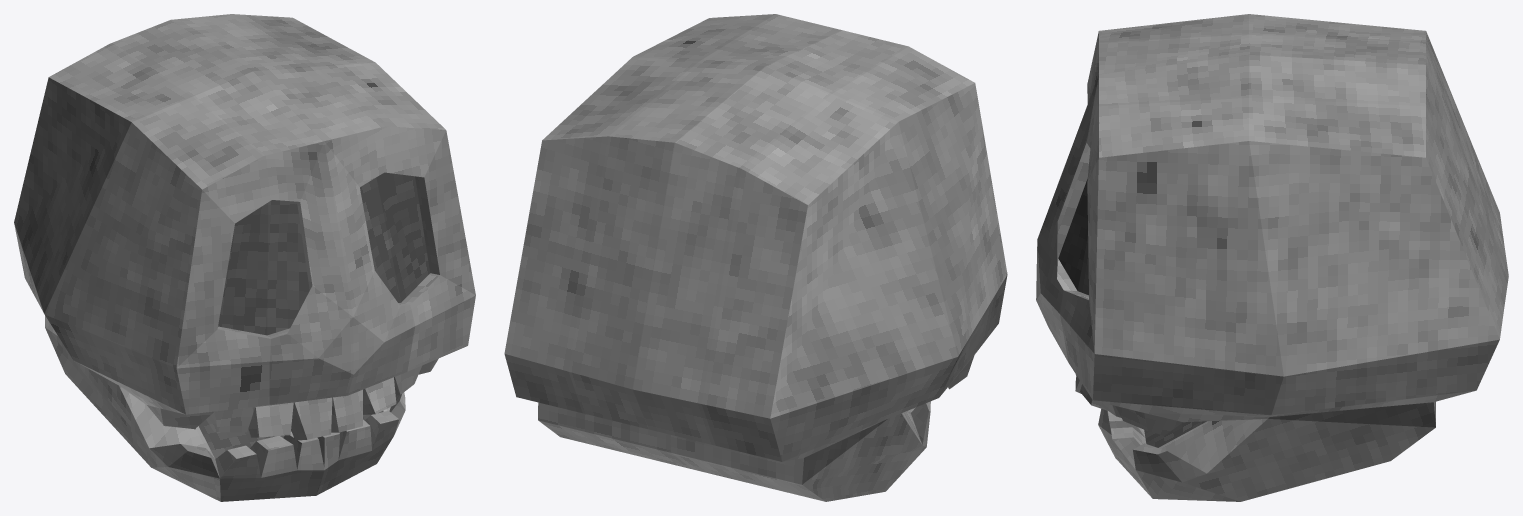
The model's file is Kosta_tn.fbx.
The picture shows the model from 3 angles, left to right: view 1: azimuth 30°, elevation 25°; view 2: azimuth 150°, elevation 25°; view 3: azimuth 270°, elevation 25°; orthographic projection. The views are drawn at different scales.
Parts seen in each view (by area): view 1: Cube.025; view 2: Cube.025; view 3: Cube.025.
Part boxes in pixels (x1,y1,x2,y2): Cube.025: [14, 14, 475, 501]; Cube.025: [504, 14, 1007, 501]; Cube.025: [1036, 14, 1508, 501].
Bounding box in the file's own units: 172 × 161 × 171.
